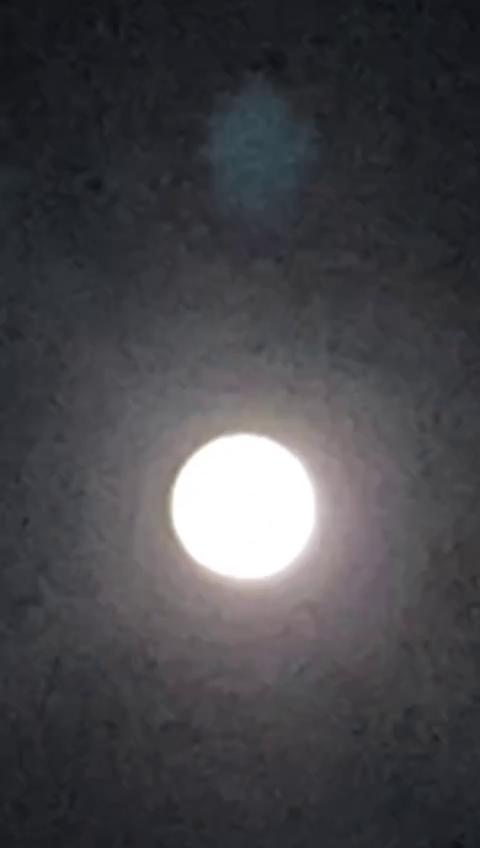moon: (189, 404, 361, 595)
